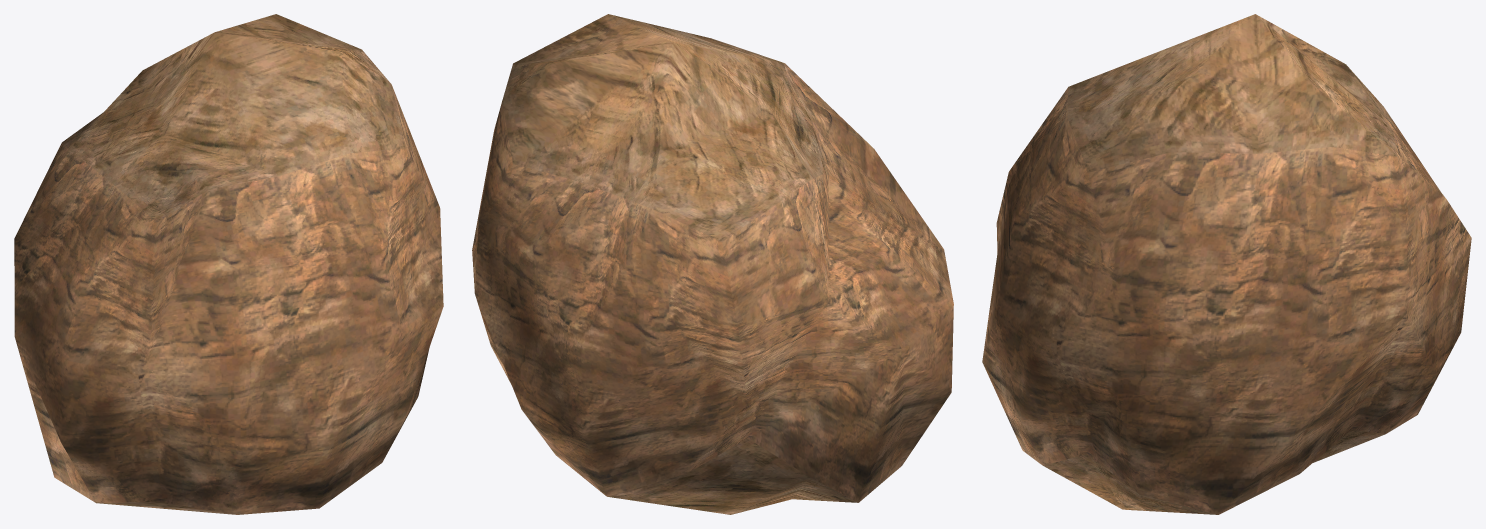
The model's file is rock_tatt_bensmesa_boulder_a1_l1.fbx.
3 views of the same model, side by side, from view 1: azimuth 30°, elevation 25°; view 2: azimuth 150°, elevation 25°; view 3: azimuth 270°, elevation 25° (orthographic). The views are drawn at different scales.
Parts seen in each view (by area): view 1: mesh_node; view 2: mesh_node; view 3: mesh_node.
Part boxes in pixels (left/top/right/bottom): mesh_node: left=14, top=14, right=443, bottom=514; mesh_node: left=472, top=14, right=953, bottom=514; mesh_node: left=982, top=14, right=1471, bottom=514.
Size of the model in its own units: 3.56 by 3.67 by 3.52.
